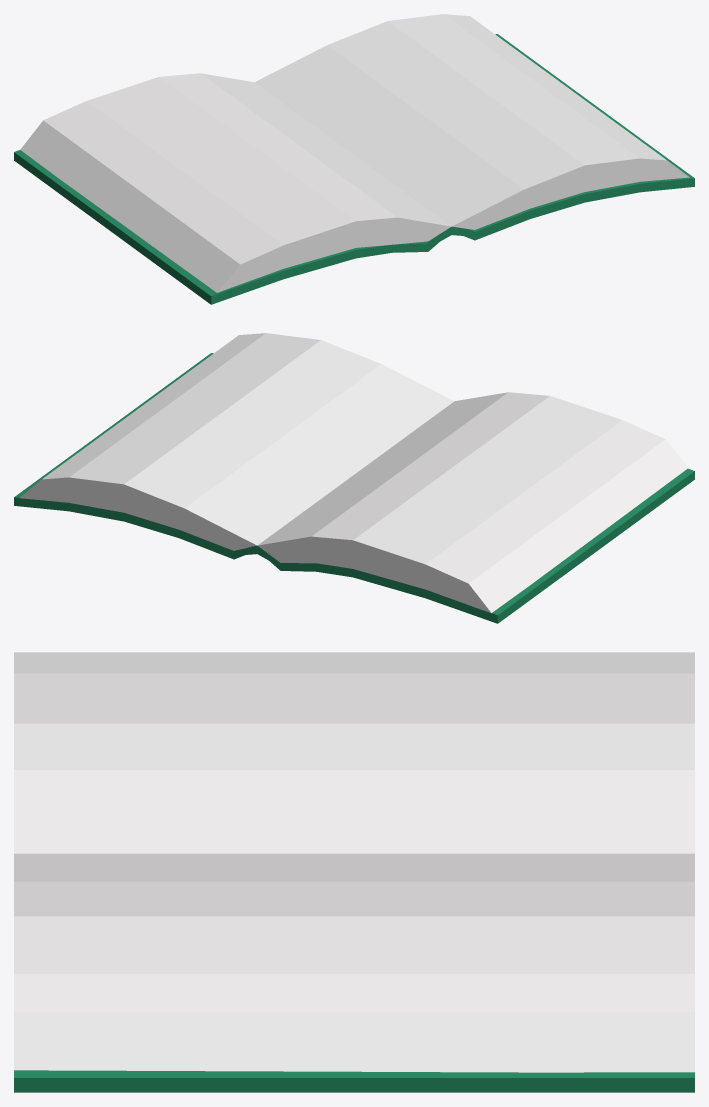
Rendered from OpenBook_3.fbx.
3 renders of one model, top to bottom at view 1: azimuth 30°, elevation 25°; view 2: azimuth 150°, elevation 25°; view 3: azimuth 270°, elevation 25°, orthographic. The views are drawn at different scales.
Parts seen in each view (by area): view 1: Open Book_3; view 2: Open Book_3; view 3: Open Book_3.
Part boxes in pixels (box(x1,y1,x2,y2)): Open Book_3: box(14, 14, 694, 304); Open Book_3: box(14, 333, 694, 623); Open Book_3: box(14, 652, 694, 1092).
Bounding box in the file's own units: 114 × 10.83 × 80.14.
